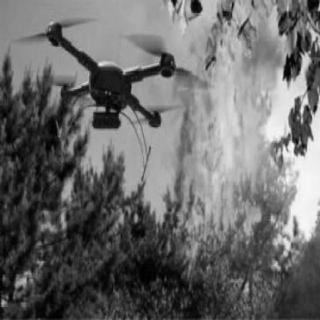Fire: (175, 20, 268, 292)
